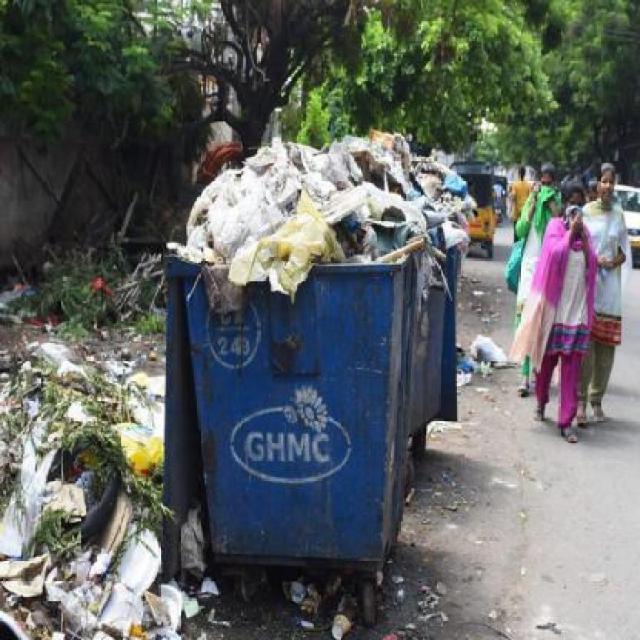garbage: (0, 204, 235, 635), (203, 101, 473, 294), (268, 562, 564, 640), (454, 320, 508, 397), (475, 282, 508, 320)
